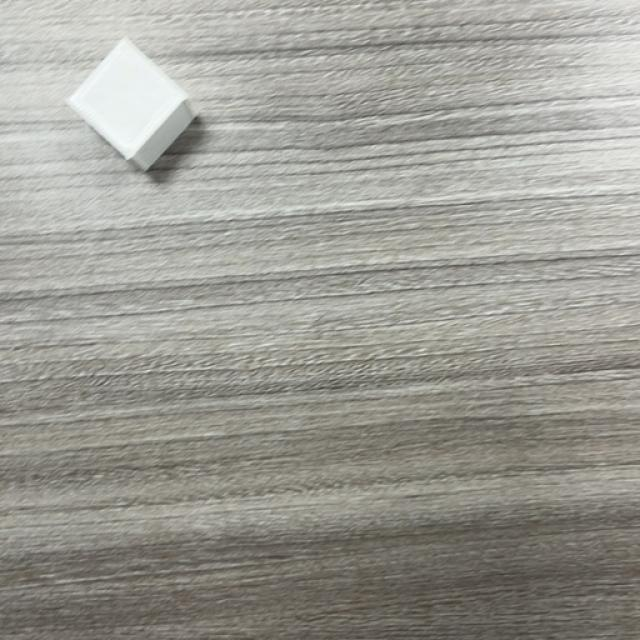Blanco: (66, 38, 201, 174)
